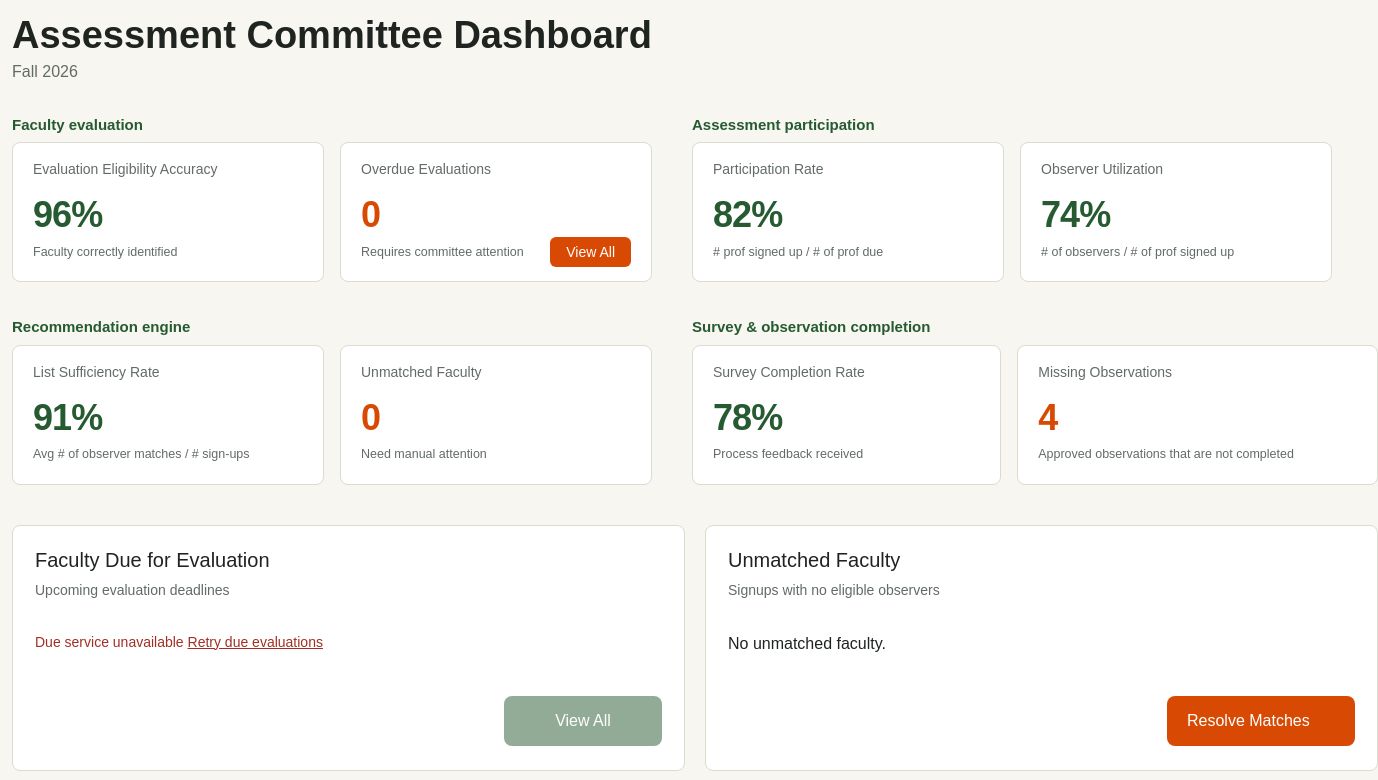
Test case: due load failures can be retried independently and empty due results are explicit
Check: the message "Due service unavailable Retry due evaluations" is shown, box [35, 632, 323, 652]
Check: the button with aria-label "View all faculty due for evaluation" is disabled, box [504, 696, 662, 746]
Step 1. Click the button "Retry due evaluations" → {"x": 255, "y": 642}, box [188, 632, 323, 652]
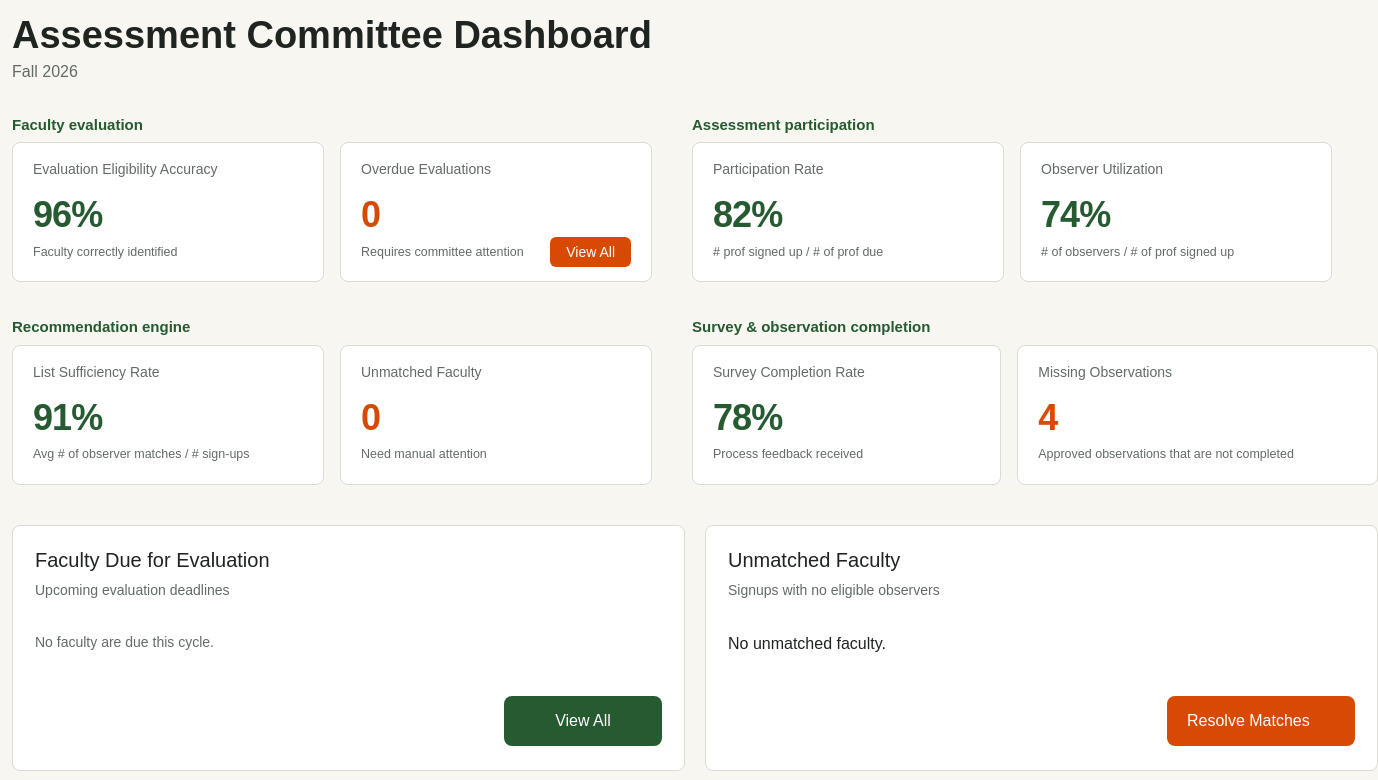
Check: the list item "No faculty are due this cycle." is shown, box [35, 634, 214, 650]
